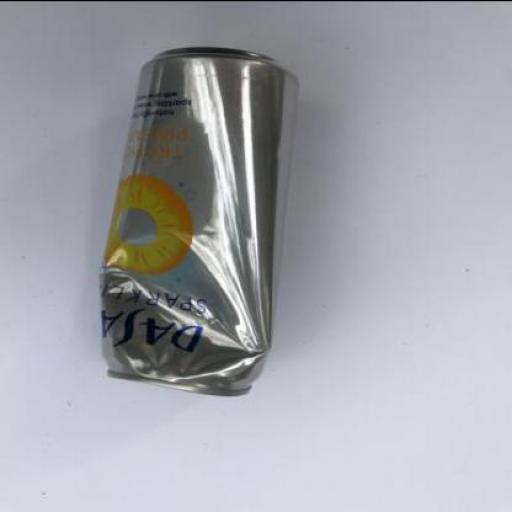metal: (102, 45, 297, 398)
